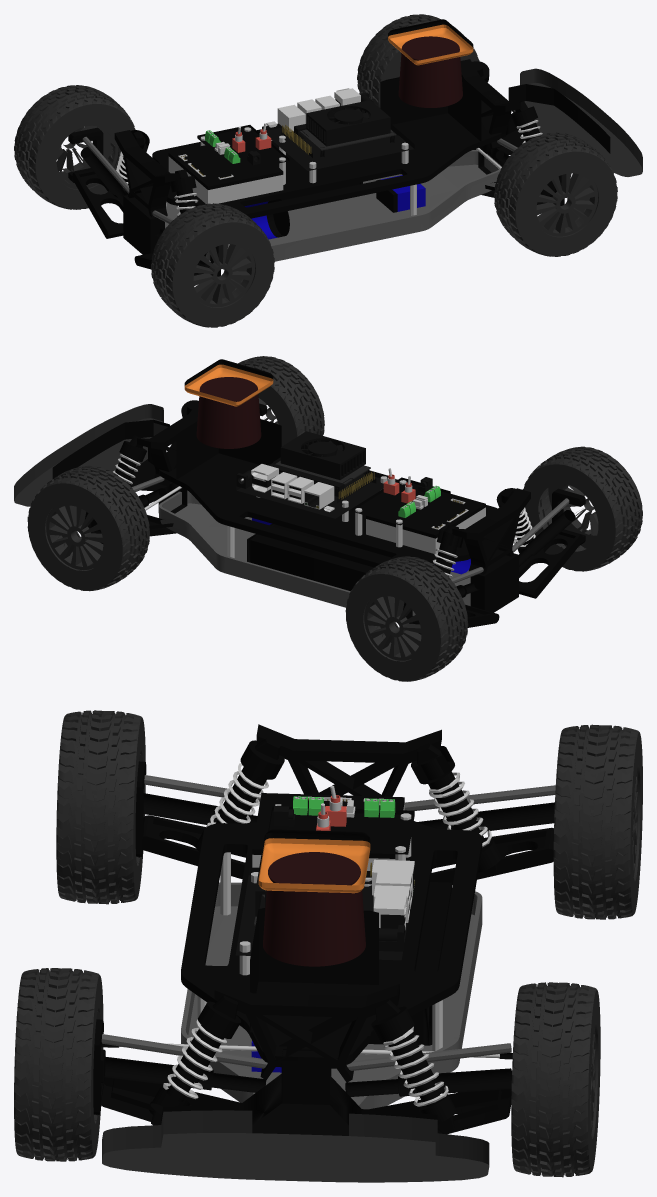
Rendered from anim_2.glb.
3 views of the same model, one above another, from view 1: azimuth 30°, elevation 25°; view 2: azimuth 150°, elevation 25°; view 3: azimuth 270°, elevation 25° (orthographic). The views are drawn at different scales.
Parts seen in each view (by area): view 1: power_board, Wheel_Rear_Right.001, Wheel_Front_Right.001, Wheel_Front_Left.001, Wheel_Front_Left.002; view 2: power_board, Wheel_Front_Left.001, Wheel_Front_Left.002, Wheel_Rear_Right.001, Wheel_Front_Right.001; view 3: power_board, Wheel_Front_Left.002, Wheel_Front_Left.001, Wheel_Rear_Right.001, Wheel_Front_Right.001.
Part boxes in pixels (left/top/right/bottom): power_board: left=68, top=19, right=642, bottom=276; Wheel_Rear_Right.001: left=151, top=203, right=274, bottom=327; Wheel_Front_Right.001: left=494, top=132, right=617, bottom=256; Wheel_Front_Left.001: left=14, top=85, right=135, bottom=209; Wheel_Front_Left.002: left=357, top=14, right=479, bottom=107; power_board: left=14, top=359, right=585, bottom=634; Wheel_Front_Left.001: left=345, top=556, right=468, bottom=681; Wheel_Front_Left.002: left=27, top=465, right=149, bottom=591; Wheel_Rear_Right.001: left=522, top=446, right=642, bottom=571; Wheel_Front_Right.001: left=238, top=356, right=324, bottom=446; power_board: left=93, top=724, right=555, bottom=1182; Wheel_Front_Left.002: left=511, top=982, right=600, bottom=1177; Wheel_Front_Left.001: left=553, top=724, right=642, bottom=919; Wheel_Rear_Right.001: left=56, top=710, right=145, bottom=904; Wheel_Front_Right.001: left=14, top=968, right=103, bottom=1161.
Size of the model in its own units: 0.4882 by 0.1549 by 0.329.
